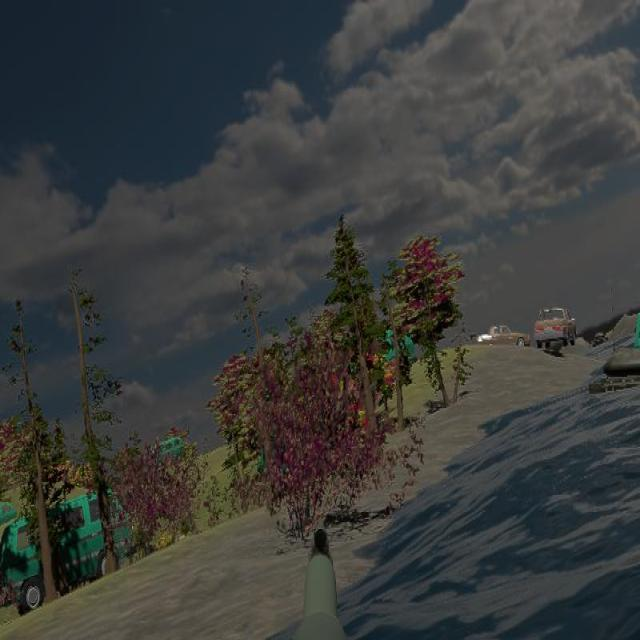Tank: (586, 346, 640, 405)
car: (6, 491, 137, 610), (0, 513, 44, 617), (534, 305, 576, 350)
